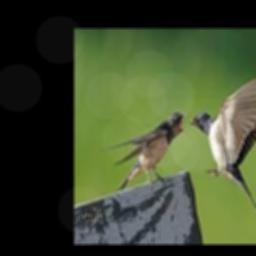Swallow: (190, 72, 256, 233), (103, 111, 186, 191)
